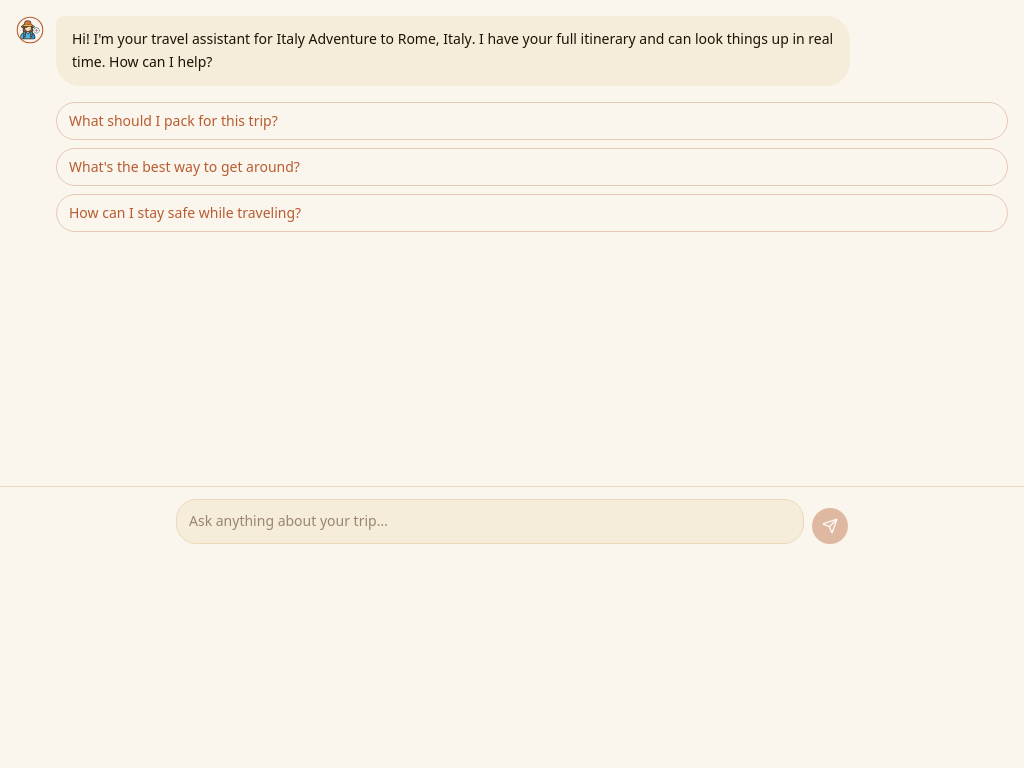
ChatTab › send button is enabled when input has text
This screenshot has width=1024, height=768.
Type "Hello" into the text box named "Chat message". click: coordinates (490, 522)
box: [176,499,804,544]
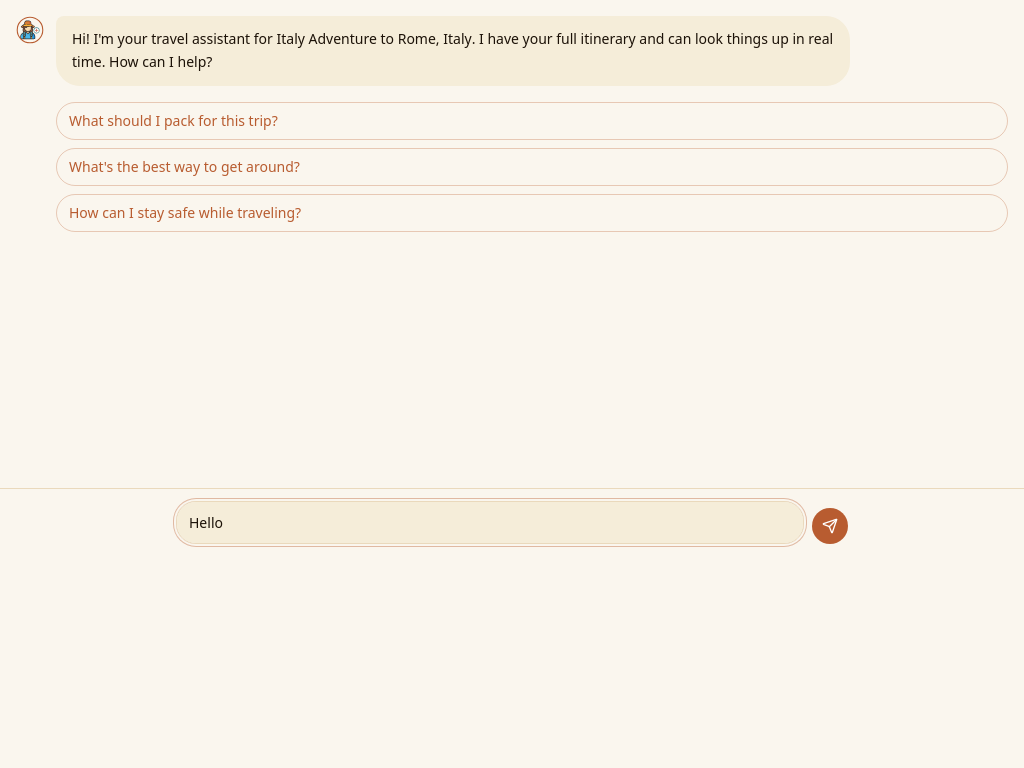
Check: the button named "Send message" is enabled, box [812,508,848,544]
